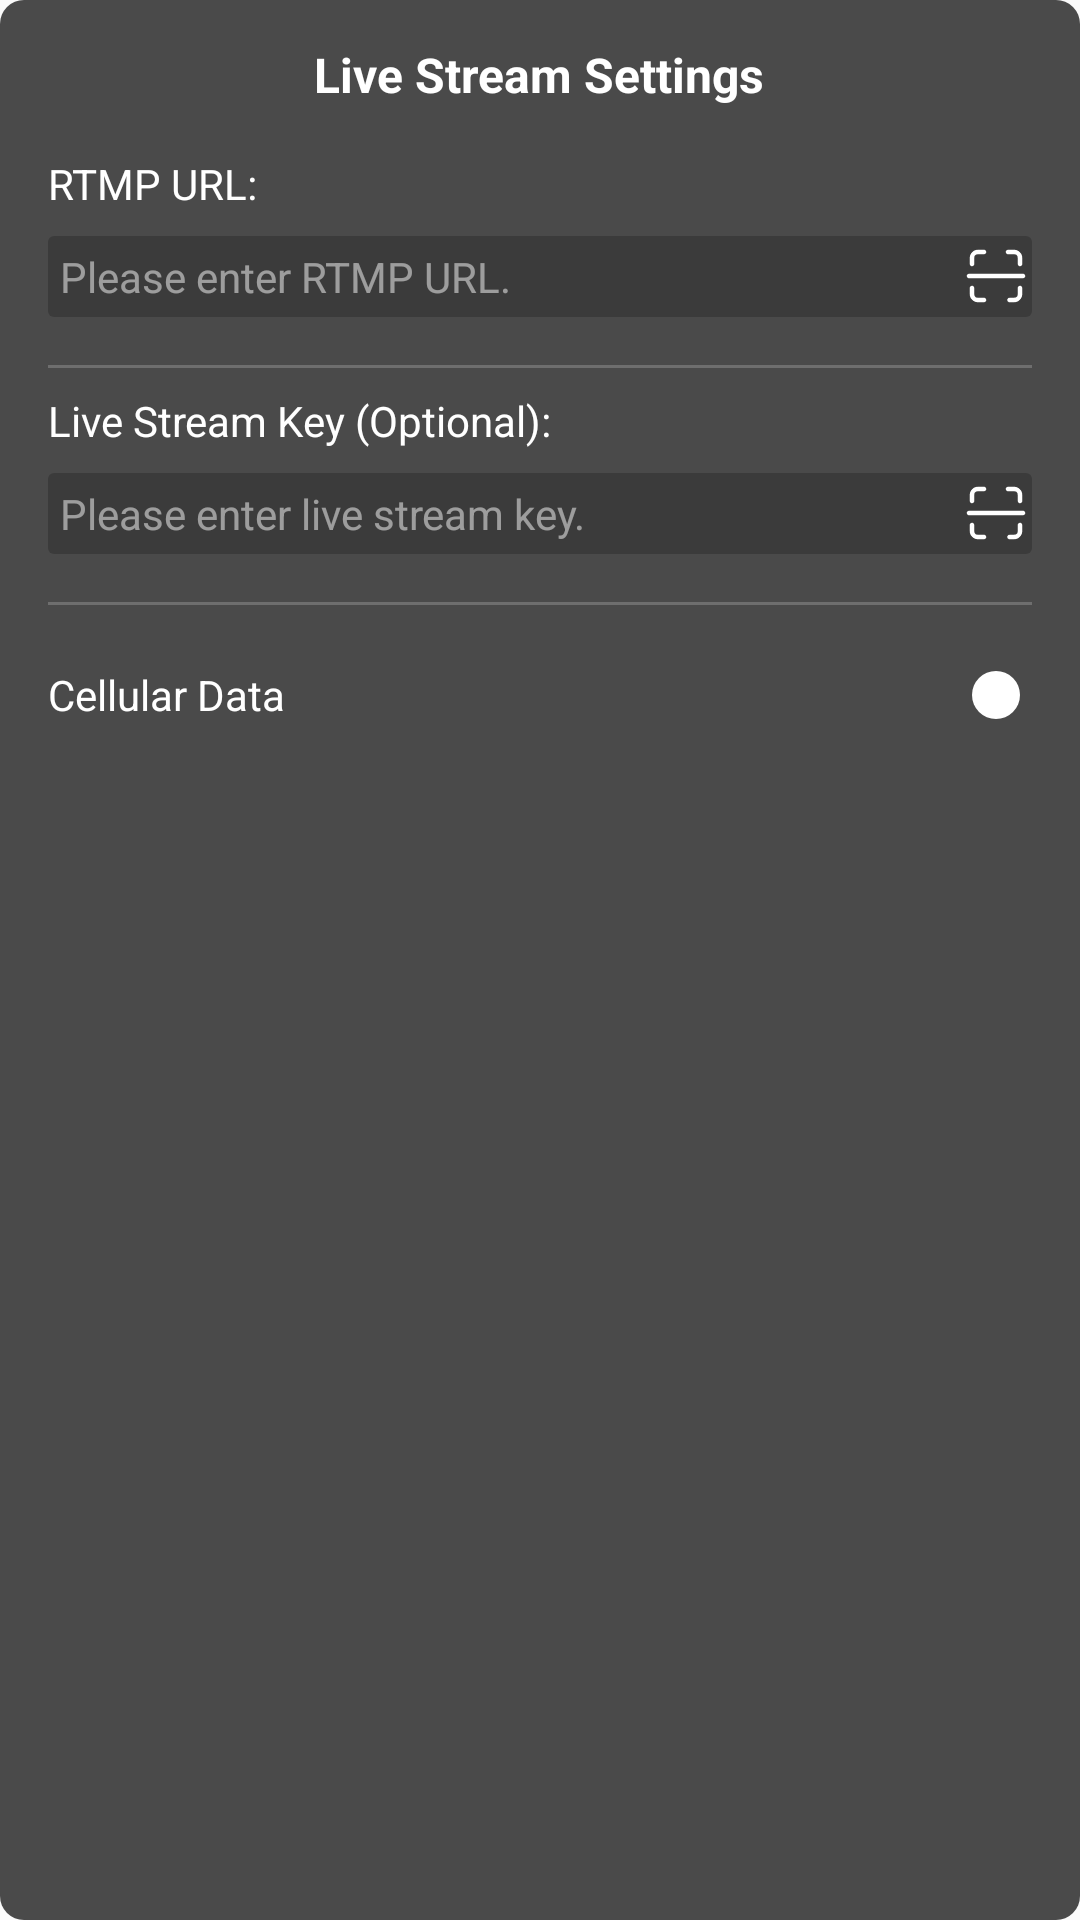

Named icons in this screenshot (1080*1920) and their centers, (x=x, y=y):
scan qrcode: (x=996, y=276), (x=996, y=513)
